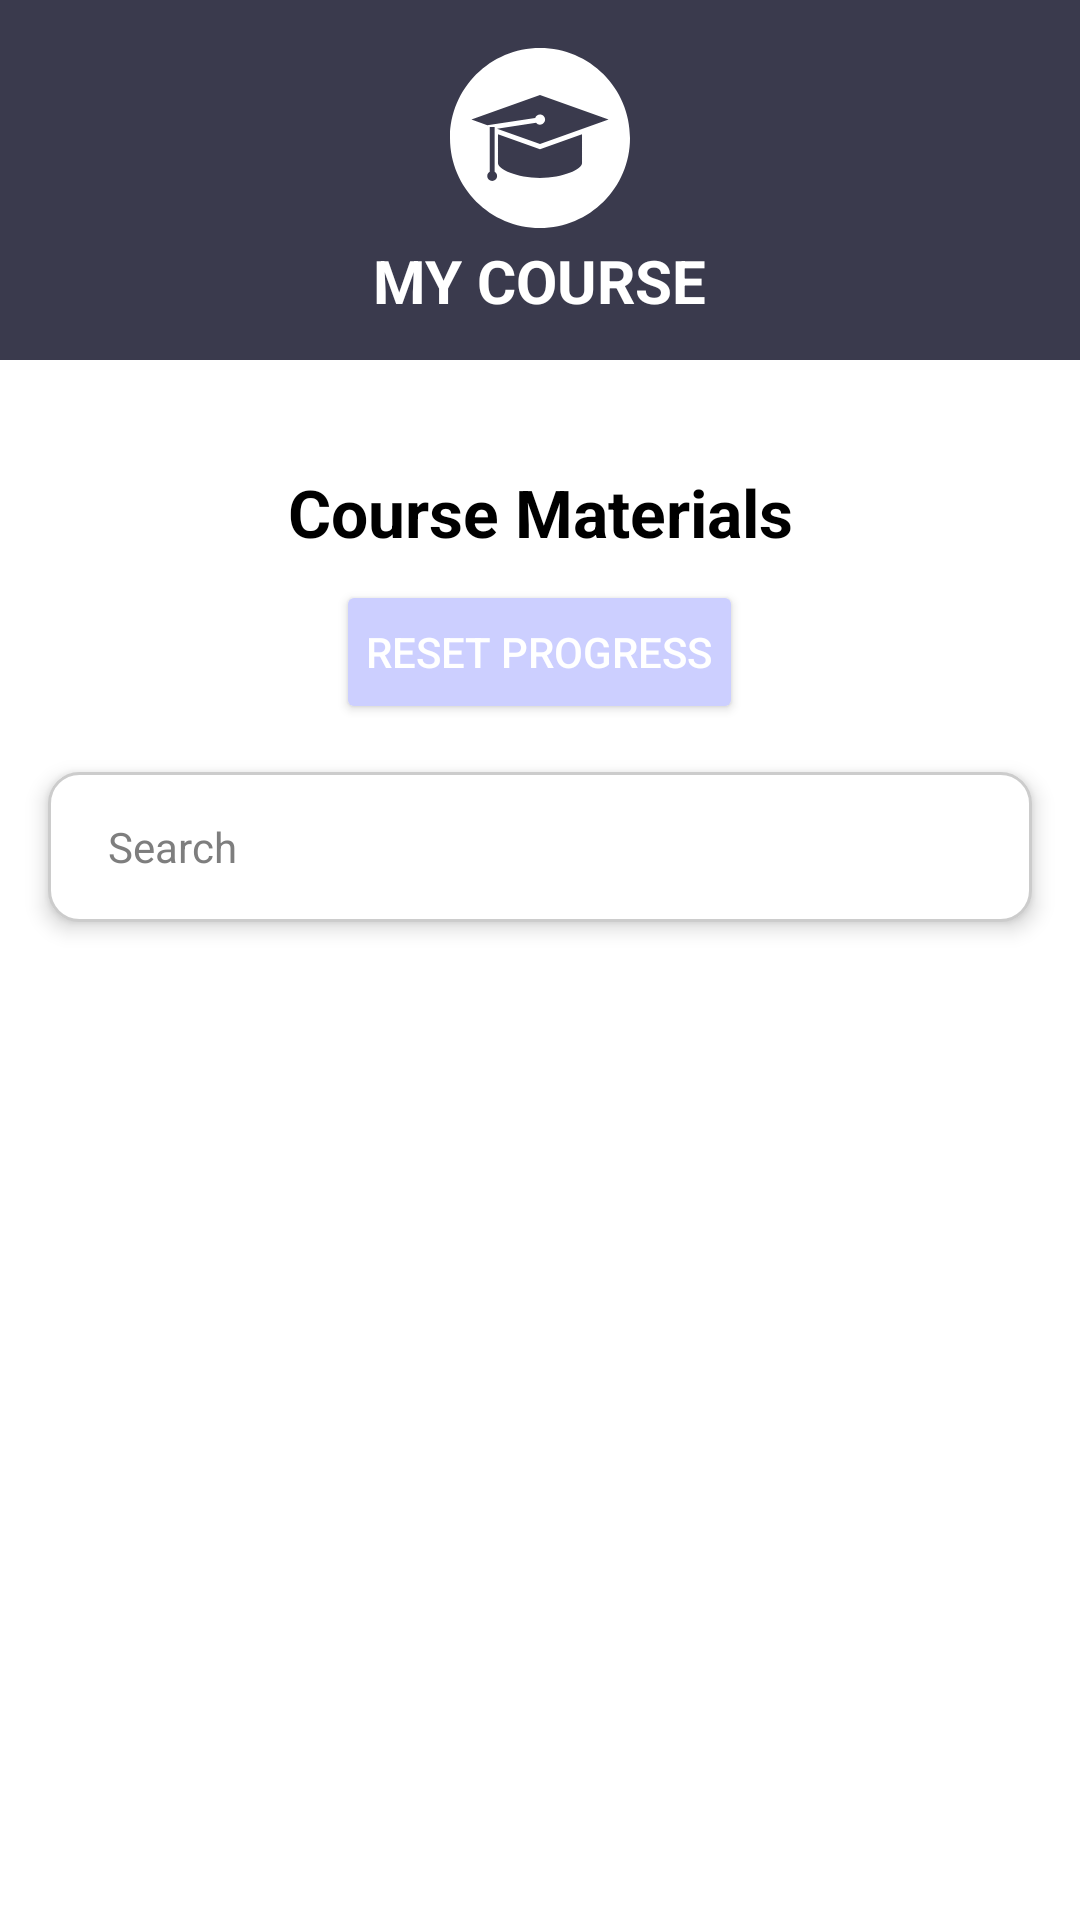

Screen size 1080*1920. Icon name, then its center in pixels as [x,y]:
Header Icon: [540,138]
